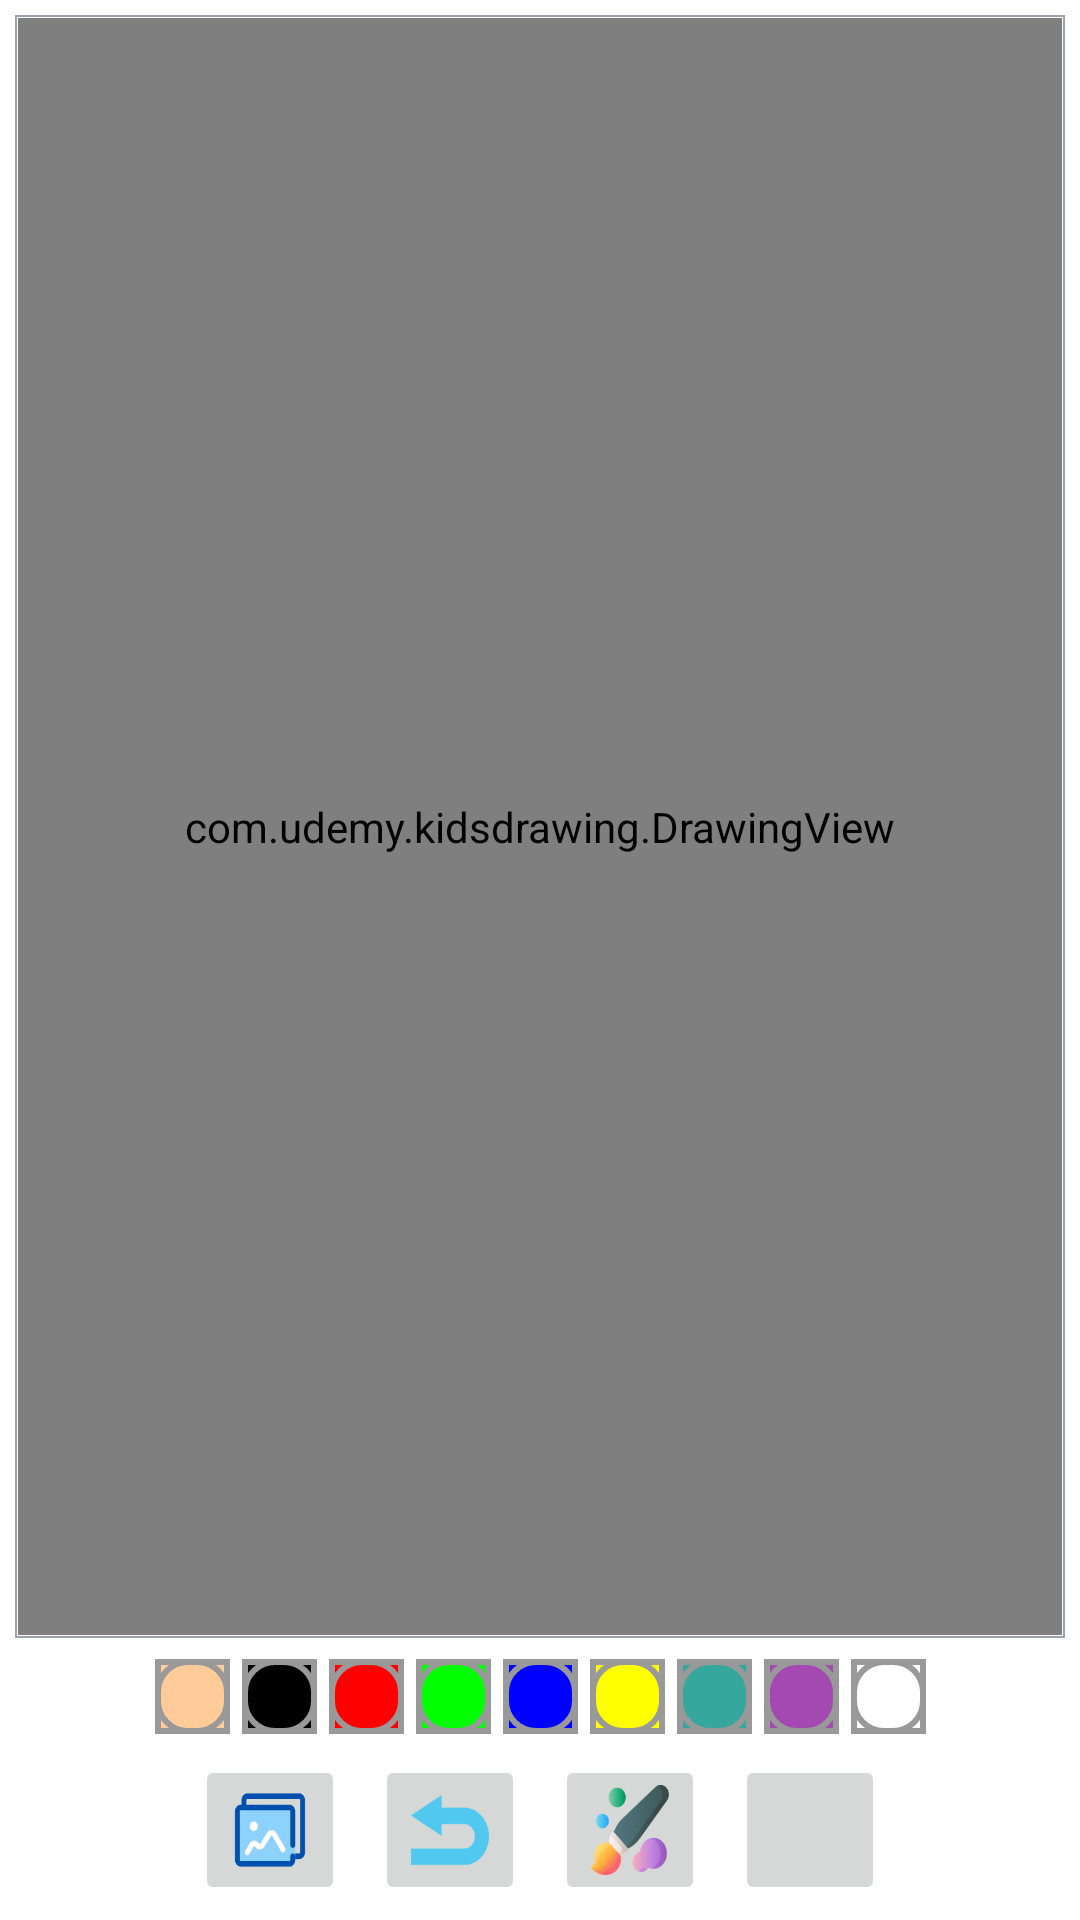

Point at icon controls on the screen. Image size 1080x1920, points as point (x, y).
brush: point (630, 1830)
gallery: point (270, 1830)
undo: point (450, 1830)
